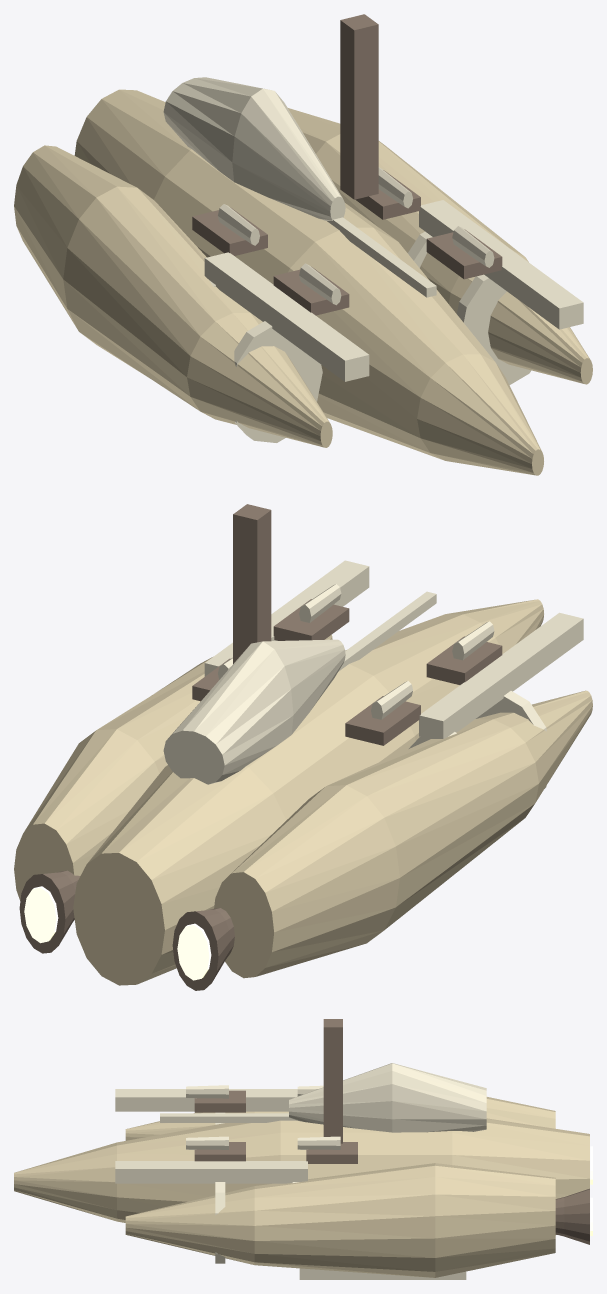
3 views of the same model, one above another, from view 1: azimuth 30°, elevation 25°; view 2: azimuth 150°, elevation 25°; view 3: azimuth 270°, elevation 25° (orthographic). The views are drawn at different scales.
Bounding box in the file's own units: 6.96 × 6.61 × 14.41.
